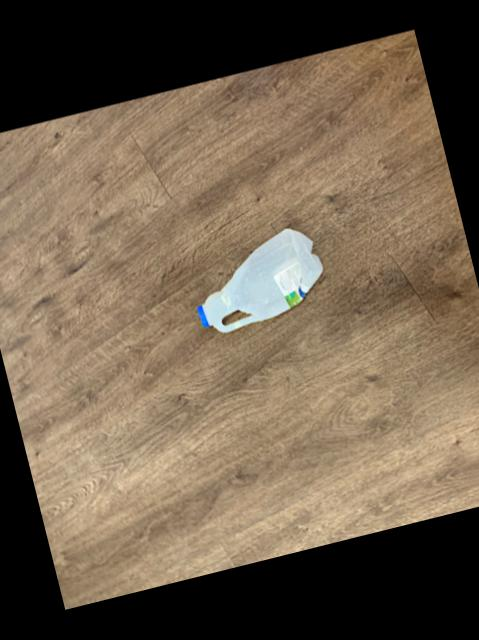plastic: (198, 231, 322, 334)
